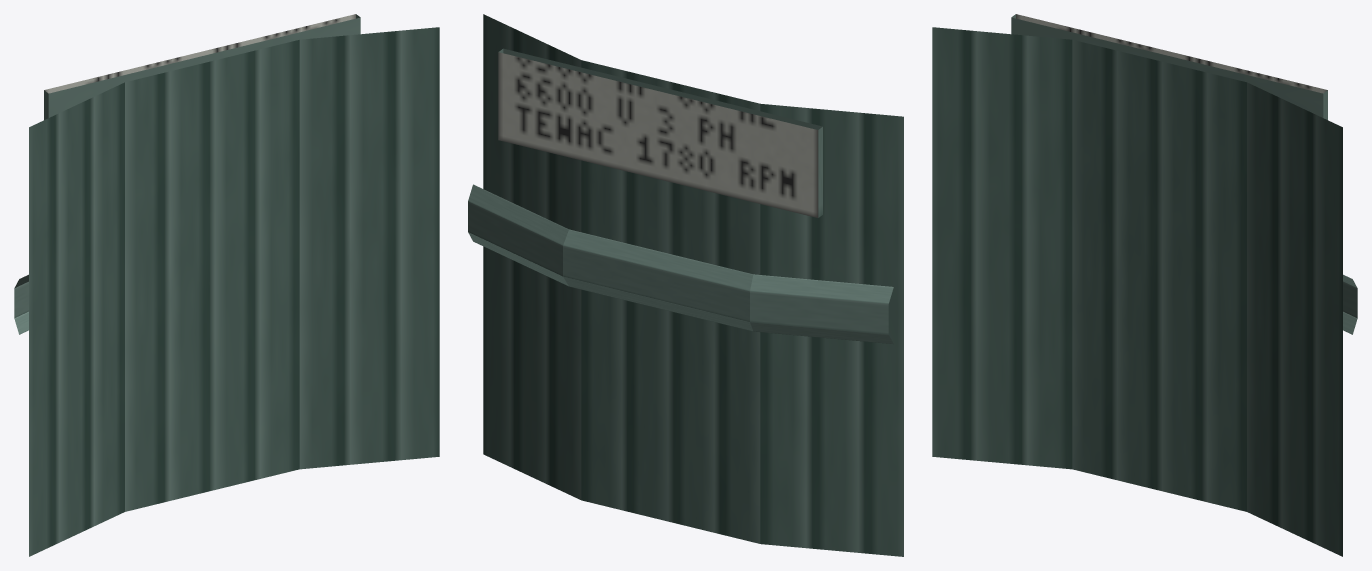
Rendered from cell_182.obj.
3 views of the same model, side by side, from view 1: azimuth 30°, elevation 25°; view 2: azimuth 150°, elevation 25°; view 3: azimuth 330°, elevation 25° (orthographic). The views are drawn at different scales.
Bounding box in the file's own units: 1 × 1 × 0.1526.
